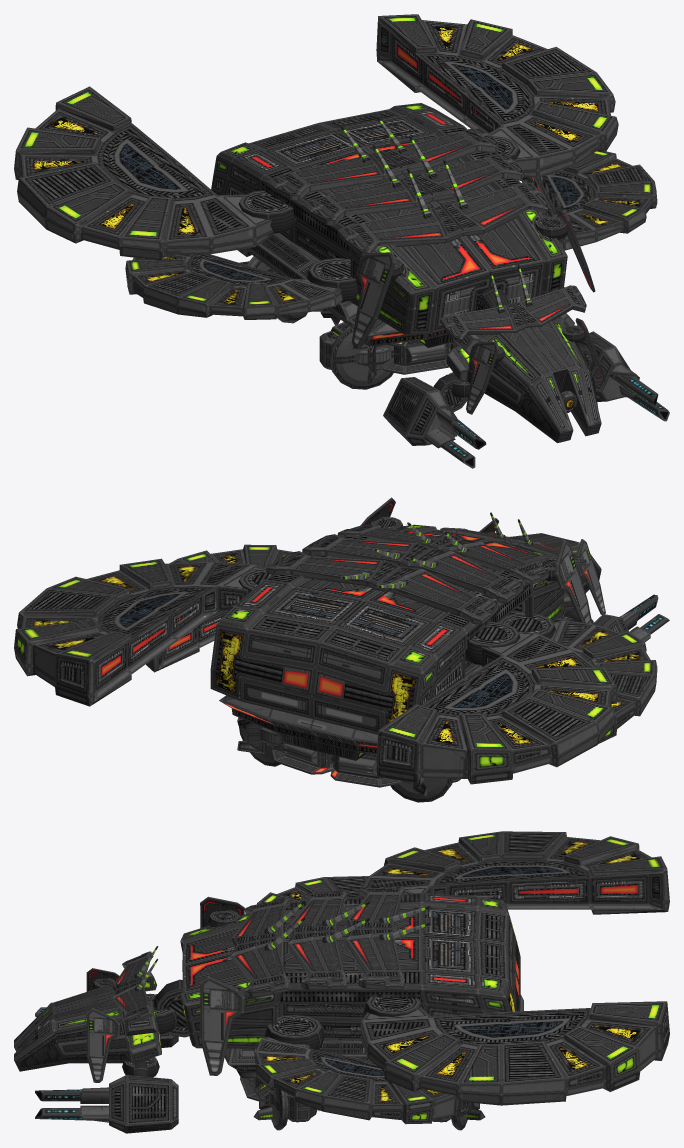
File: asset1.fbx
The picture shows the model from 3 angles, top to bottom: view 1: azimuth 30°, elevation 25°; view 2: azimuth 150°, elevation 25°; view 3: azimuth 270°, elevation 25°; orthographic projection. The views are drawn at different scales.
Visible parts, largest first — view 1: SpiderUpperBody, WingUpperRight, WingUpperLeft, SpiderHead, WingLowerRight, WingLowerLeft, LegBodyMain, WpnRightMainSection, WingAttachMainRight, FRLegSection001, WpnLeftMainSection, FRLegSection005 (+6 smaller); view 2: SpiderUpperBody, WingUpperRight, WingUpperLeft, WingLowerRight, LegBodyMain, WingLowerLeft, SpiderHead, WingAttachMainRight, BRLegSection005, BLLegSection004, WingSwivleRightBack, BRLegSection001 (+8 smaller); view 3: SpiderUpperBody, WingUpperLeft, WingUpperRight, WingLowerLeft, SpiderHead, WpnLeftMainSection, WingAttachMainLeft, WingAttachHeadLeft, Antenna002, LegBodyMain, WingLowerRight, WingSwivleLeftFront (+9 smaller).
Part boxes in pixels (<box>): SpiderUpperBody: <box>211,103,567,335</box>; WingUpperRight: <box>14,86,274,260</box>; WingUpperLeft: <box>376,14,618,177</box>; SpiderHead: <box>440,285,601,442</box>; WingLowerRight: <box>125,254,342,319</box>; WingLowerLeft: <box>521,151,657,250</box>; LegBodyMain: <box>237,233,564,347</box>; WpnRightMainSection: <box>383,377,456,448</box>; WingAttachMainRight: <box>352,252,404,349</box>; FRLegSection001: <box>319,326,394,389</box>; WpnLeftMainSection: <box>578,331,639,401</box>; FRLegSection005: <box>376,340,450,374</box>; SpiderUpperBody: <box>210,524,564,734</box>; WingUpperRight: <box>376,631,618,784</box>; WingUpperLeft: <box>14,558,262,706</box>; WingLowerRight: <box>550,620,657,743</box>; LegBodyMain: <box>219,664,482,760</box>; WingLowerLeft: <box>146,544,293,672</box>; SpiderHead: <box>440,527,601,611</box>; WingAttachMainRight: <box>535,539,592,623</box>; BRLegSection005: <box>330,753,410,787</box>; BLLegSection004: <box>266,731,333,774</box>; WingSwivleRightBack: <box>465,621,520,664</box>; BRLegSection001: <box>390,778,460,802</box>; SpiderUpperBody: <box>180,886,520,1048</box>; WingUpperLeft: <box>361,1001,669,1105</box>; WingUpperRight: <box>362,831,669,914</box>; WingLowerLeft: <box>255,1036,472,1124</box>; SpiderHead: <box>14,951,161,1071</box>; WpnLeftMainSection: <box>80,1075,178,1133</box>; WingAttachMainLeft: <box>200,976,244,1075</box>; WingAttachHeadLeft: <box>86,1008,120,1082</box>; Antenna002: <box>264,900,430,950</box>; LegBodyMain: <box>224,994,523,1077</box>; WingLowerRight: <box>257,876,368,904</box>; WingSwivleLeftFront: <box>264,1015,324,1050</box>.
Size of the model in its own units: 11170 by 3896 by 12166.
